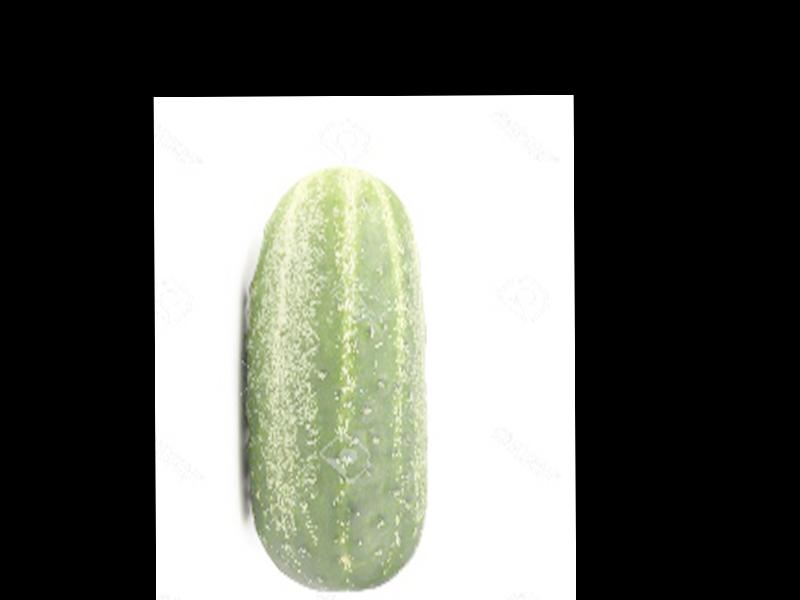Cucumber: (242, 170, 427, 595)
